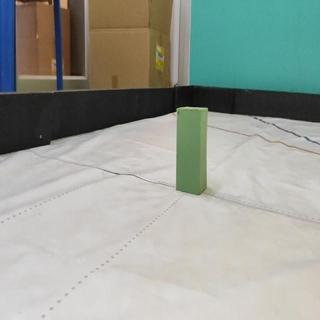greenbox: (175, 105, 209, 195)
